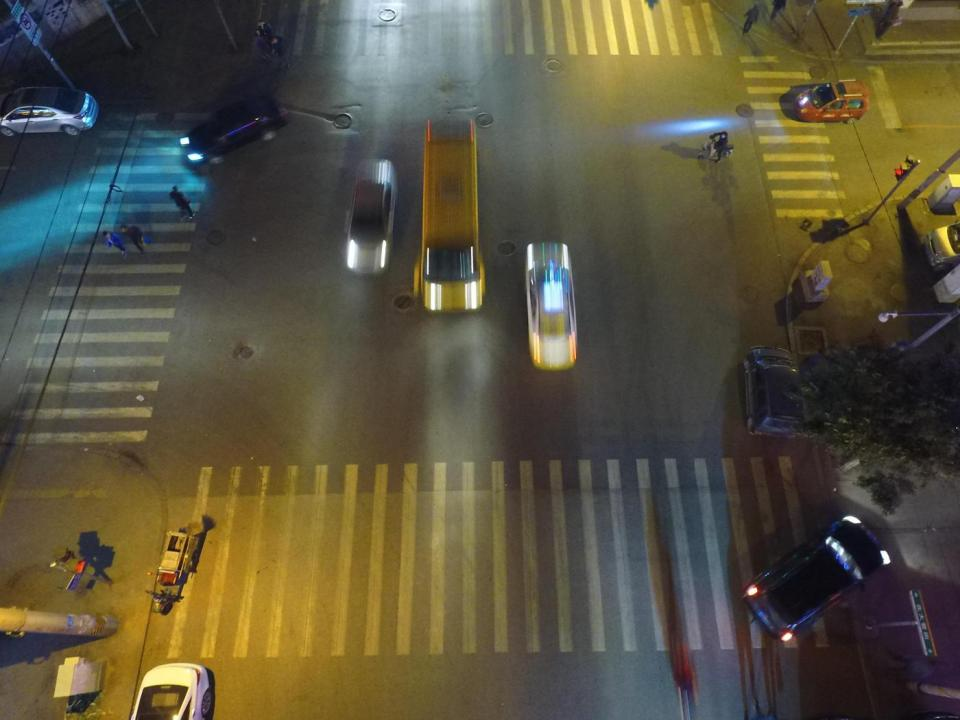bus: (414, 119, 486, 312)
car: (740, 516, 890, 641), (183, 94, 287, 166), (521, 243, 578, 371), (344, 157, 396, 273), (743, 346, 807, 437), (0, 86, 98, 134), (134, 663, 212, 720), (790, 77, 868, 123)
van: (923, 222, 960, 271)
